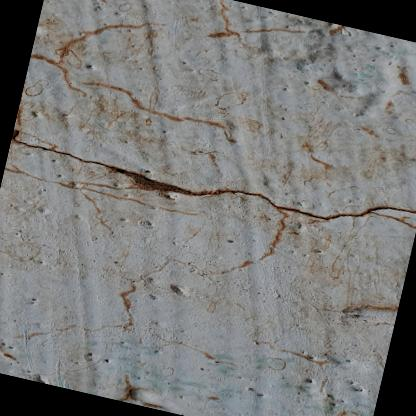crack: (10, 135, 416, 223)
